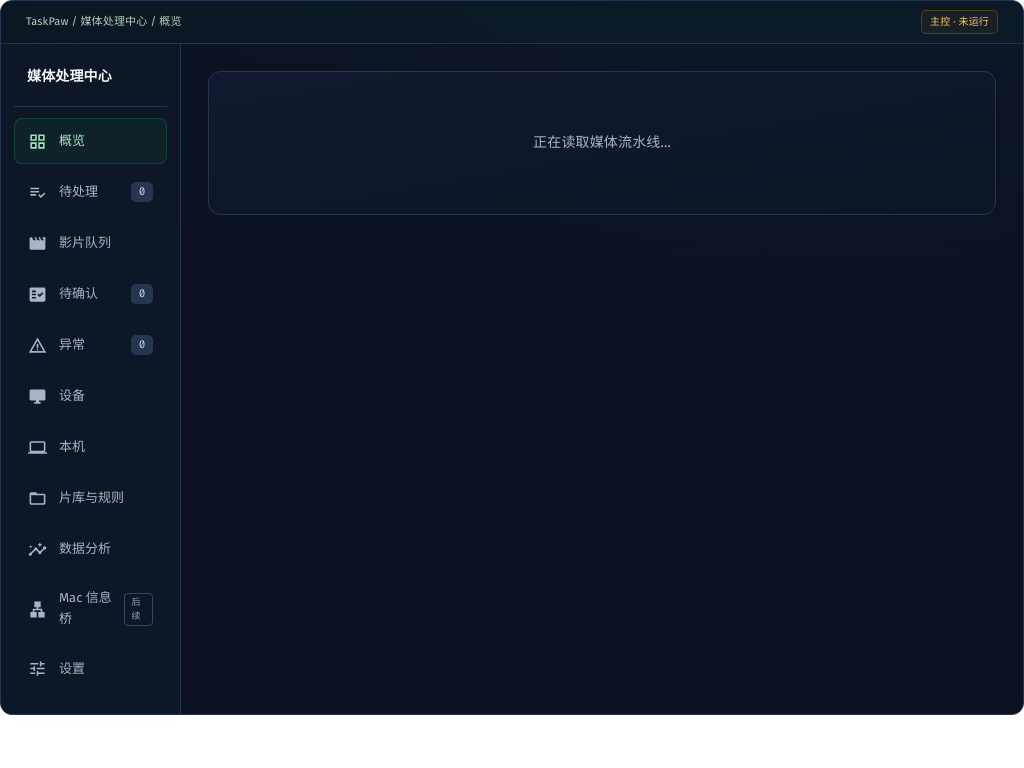
Test: #302 finished history › keeps a reused 破解 mark and explains an empty LTX breakdown
What coordinates should you click on to do the following:
click the button "影片队列"
I would click on:
 (90, 243)
Its box is [14,220,167,266].
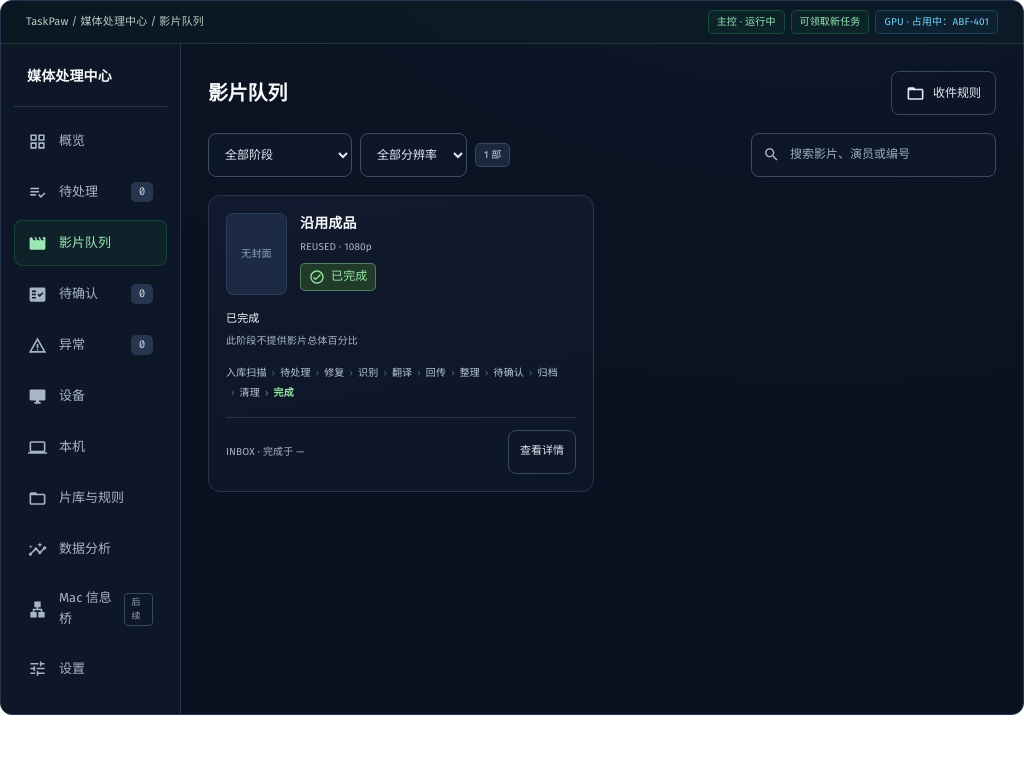
What coordinates should you click on to do the following:
click the button with aria-label "查看 沿用成品 详情"
I would click on:
 (542, 452)
Its box is [508,430,576,474].
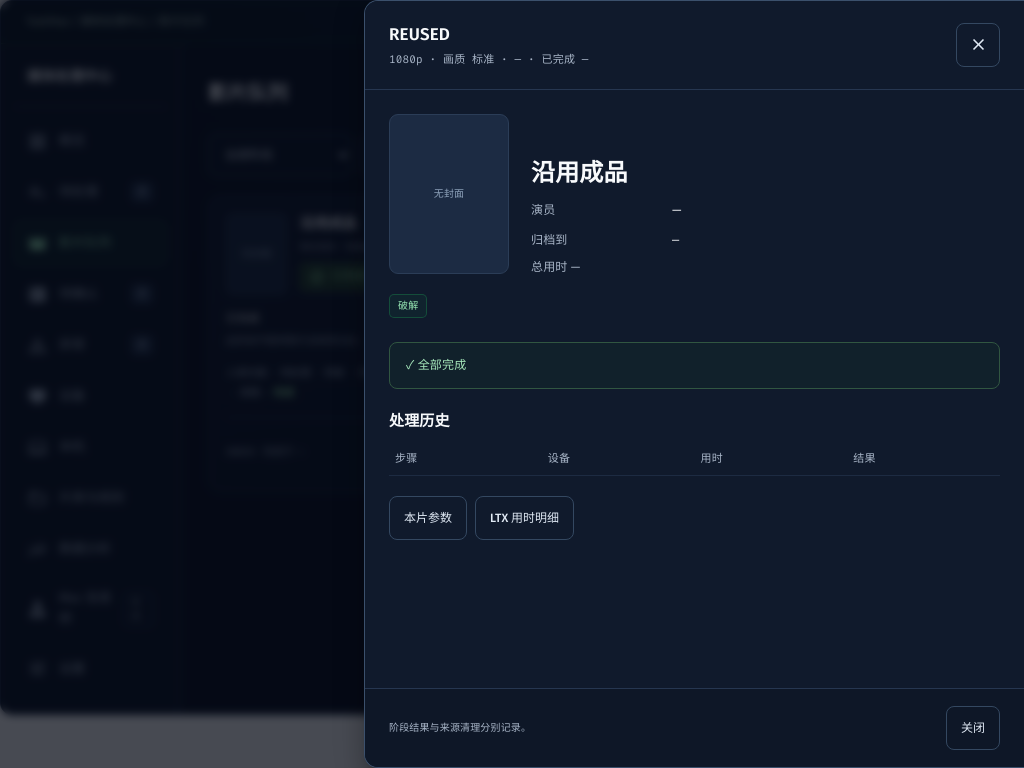
Expected: the text "破解" is shown, [389,294,427,318]
What coordinates should you click on to do the following:
click the button "LTX 用时明细"
I would click on:
 (525, 518)
Its box is [475,496,574,540].
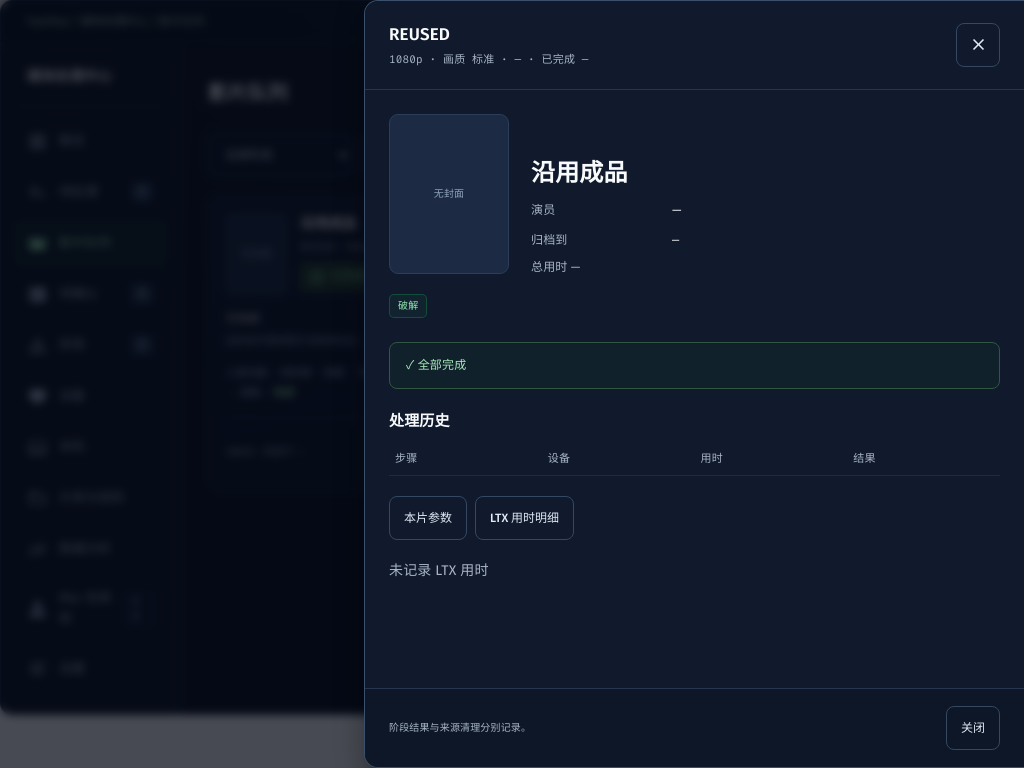
Expected: the text "未记录 LTX 用时" is shown, [389,562,488,579]
